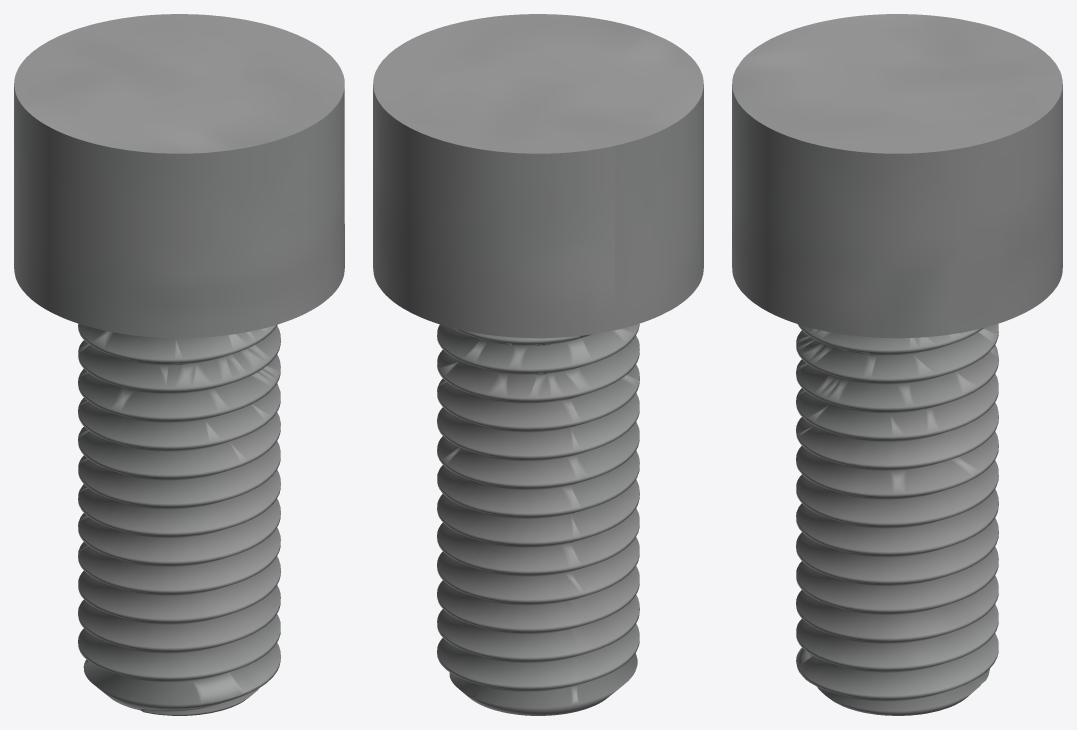
Rendered from factory_bolt_m8_tight.glb.
3 views of the same model, side by side, from view 1: azimuth 30°, elevation 25°; view 2: azimuth 150°, elevation 25°; view 3: azimuth 270°, elevation 25° (orthographic).
Parts seen in each view (by area): view 1: part0; view 2: part0; view 3: part0.
Boxes of the visible parts, box(x1,y1,x2,y2) form: part0: box(14, 14, 344, 715); part0: box(373, 14, 703, 715); part0: box(732, 14, 1062, 715).
Size of the model in its own units: 0.013 by 0.026 by 0.013.
Materials: 1 (1 with a texture image).
